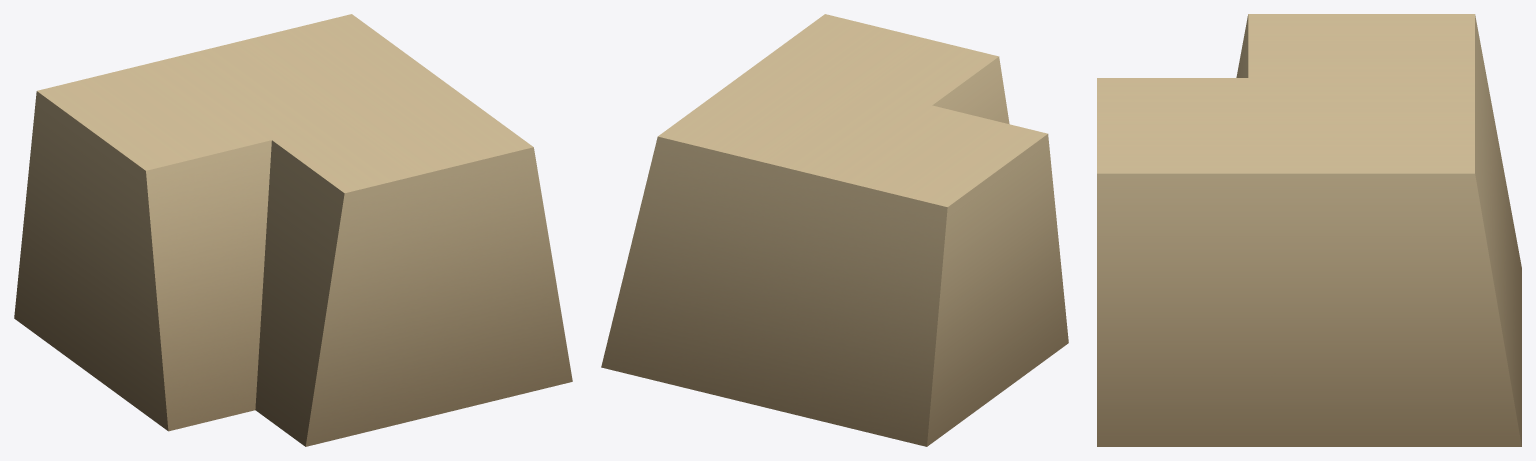
File: SM_WallCorner_Clay.fbx
The picture shows the model from 3 angles, left to right: view 1: azimuth 30°, elevation 25°; view 2: azimuth 150°, elevation 25°; view 3: azimuth 270°, elevation 25°; orthographic projection. The views are drawn at different scales.
Parts seen in each view (by area): view 1: WallCorner_Clay; view 2: WallCorner_Clay; view 3: WallCorner_Clay.
Part boxes in pixels (x1,y1,x2,y2): WallCorner_Clay: (14,14,572,446); WallCorner_Clay: (601,14,1068,446); WallCorner_Clay: (1097,14,1521,446).
Size of the model in its own units: 161 by 106 by 161.
